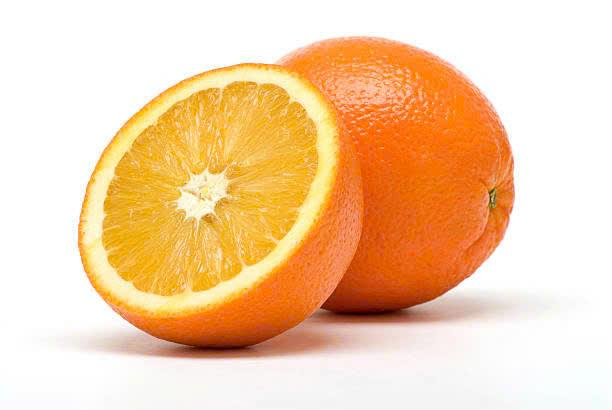orange: (69, 56, 360, 344), (324, 31, 520, 319)
